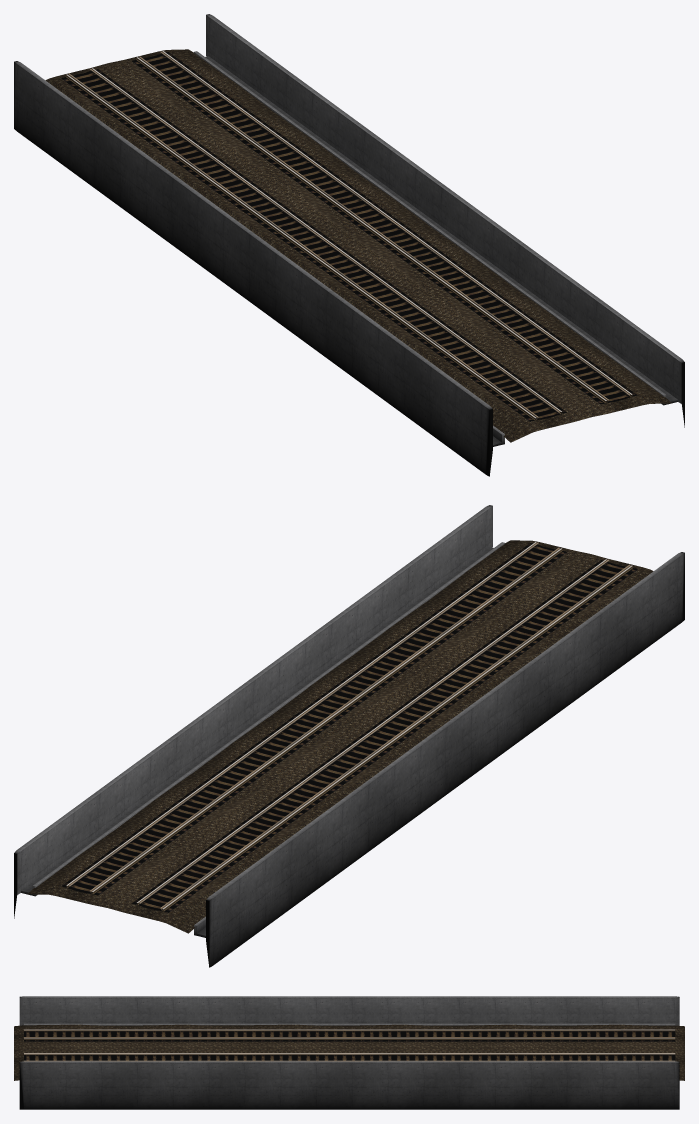
File: KIN_2RAIL_150_WALL.glb
3 renders of one model, top to bottom at view 1: azimuth 30°, elevation 25°; view 2: azimuth 150°, elevation 25°; view 3: azimuth 270°, elevation 25°, orthographic. The views are drawn at different scales.
Visible parts, largest first — view 1: Jari_All3, R000_RG_R3, R000_RG_L3; view 2: Jari_All3, R000_RG_R3, R000_RG_L3; view 3: Jari_All3, R000_RG_R3, R000_RG_L3.
Part boxes in pixels (box(x1,y1,x2,y2)): Jari_All3: box(14, 14, 684, 476); R000_RG_R3: box(68, 56, 608, 418); R000_RG_L3: box(89, 51, 629, 412); Jari_All3: box(14, 505, 684, 967); R000_RG_R3: box(89, 547, 630, 909); R000_RG_L3: box(68, 542, 609, 904); Jari_All3: box(14, 996, 684, 1109); R000_RG_R3: box(24, 1030, 675, 1054); R000_RG_L3: box(24, 1037, 675, 1061).
Size of the model in its own units: 36.23 by 11.93 by 155.
7 materials, 6 textured.
